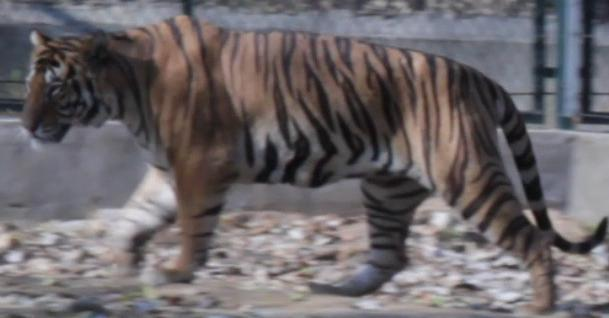tiger: (23, 16, 605, 312)
